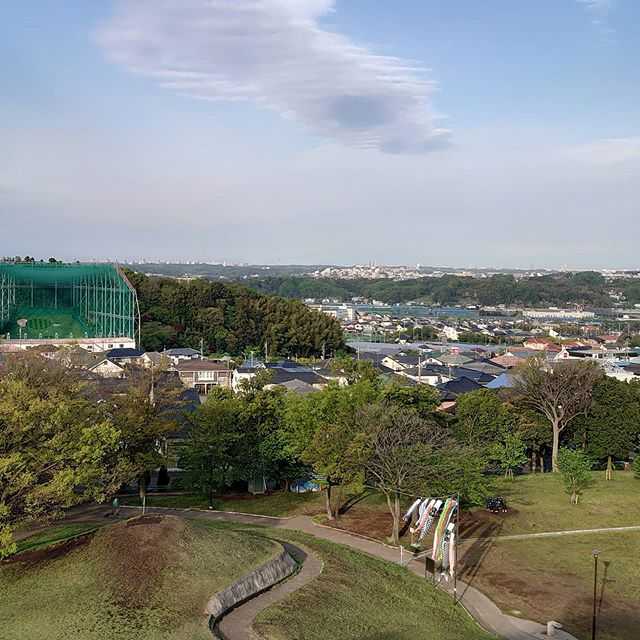building: (1, 257, 138, 357), (167, 347, 241, 395)
sky: (1, 1, 637, 255)
vegetation: (1, 376, 630, 551), (139, 270, 333, 351)
